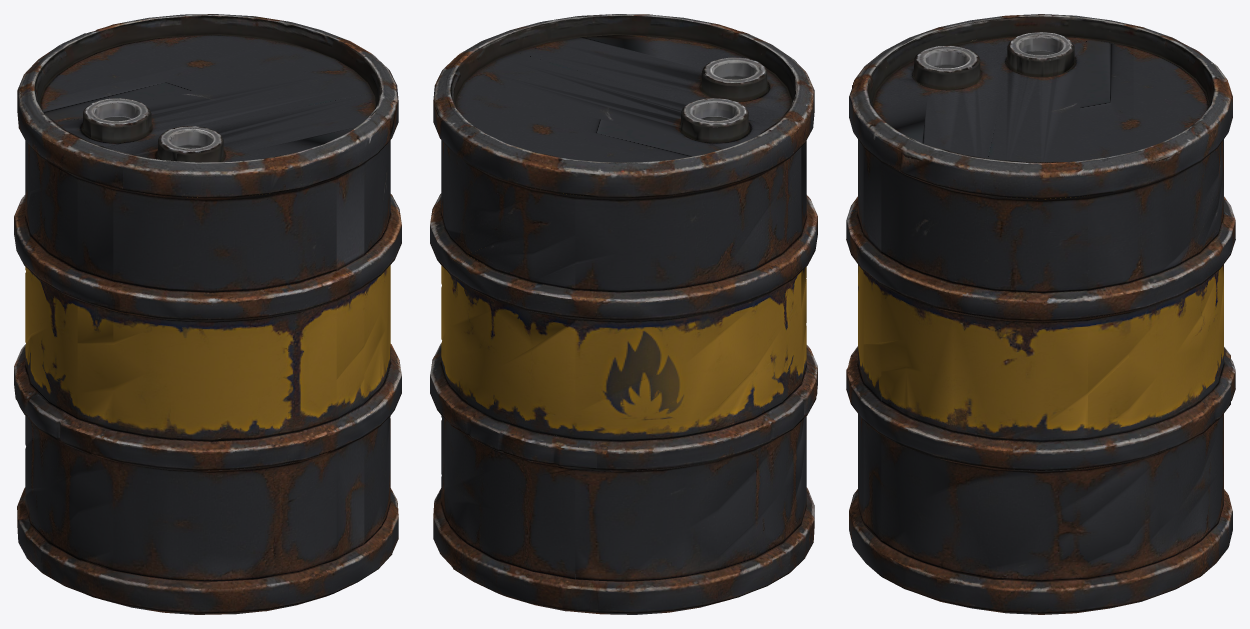
The model's file is fuel_barrel.glb.
3 renders of one model, left to right at view 1: azimuth 30°, elevation 25°; view 2: azimuth 150°, elevation 25°; view 3: azimuth 270°, elevation 25°, orthographic.
Parts seen in each view (by area): view 1: tripo_node_5ab34a42-0e18-40b9-aa33-b292a8b44ac1; view 2: tripo_node_5ab34a42-0e18-40b9-aa33-b292a8b44ac1; view 3: tripo_node_5ab34a42-0e18-40b9-aa33-b292a8b44ac1.
Part boxes in pixels (<box>): tripo_node_5ab34a42-0e18-40b9-aa33-b292a8b44ac1: <box>14,14,401,614</box>; tripo_node_5ab34a42-0e18-40b9-aa33-b292a8b44ac1: <box>430,14,817,614</box>; tripo_node_5ab34a42-0e18-40b9-aa33-b292a8b44ac1: <box>846,14,1235,614</box>.
Size of the model in its own units: 0.6906 by 0.8804 by 0.6911.
Materials: 1 (1 with a texture image).
